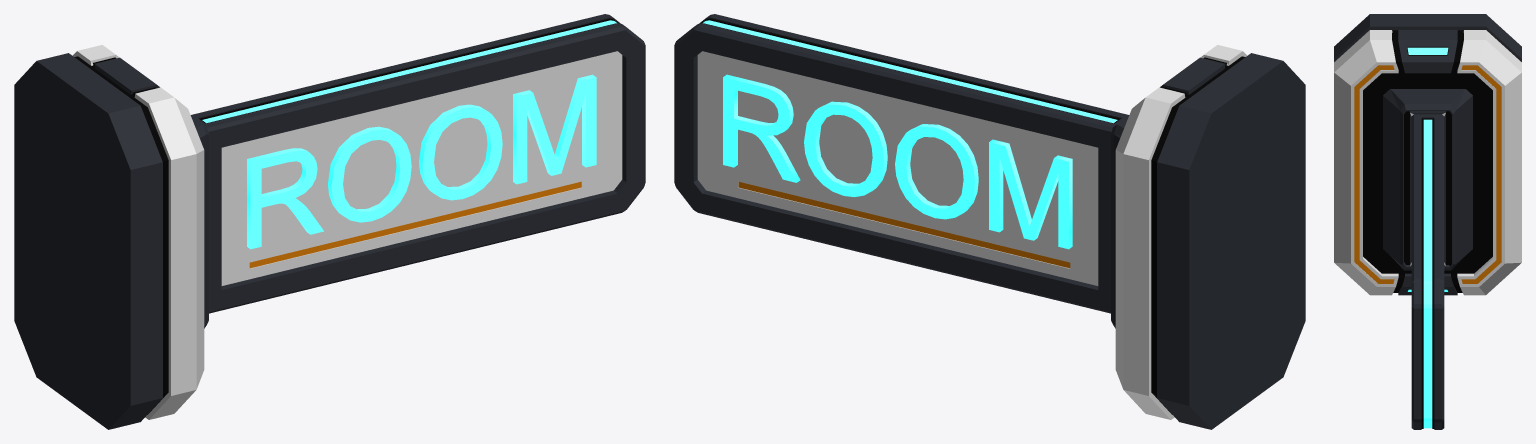
File: SM_DoorSign_Room.fbx
3 renders of one model, left to right at view 1: azimuth 30°, elevation 25°; view 2: azimuth 150°, elevation 25°; view 3: azimuth 270°, elevation 25°, orthographic. The views are drawn at different scales.
Parts seen in each view (by area): view 1: SM_DoorSign_Room; view 2: SM_DoorSign_Room; view 3: SM_DoorSign_Room.
Boxes of the visible parts, <box> form: SM_DoorSign_Room: <box>14,14,645,429</box>; SM_DoorSign_Room: <box>674,14,1305,429</box>; SM_DoorSign_Room: <box>1334,14,1521,429</box>.
Bounding box in the file's own units: 33.61 × 18 × 12.
